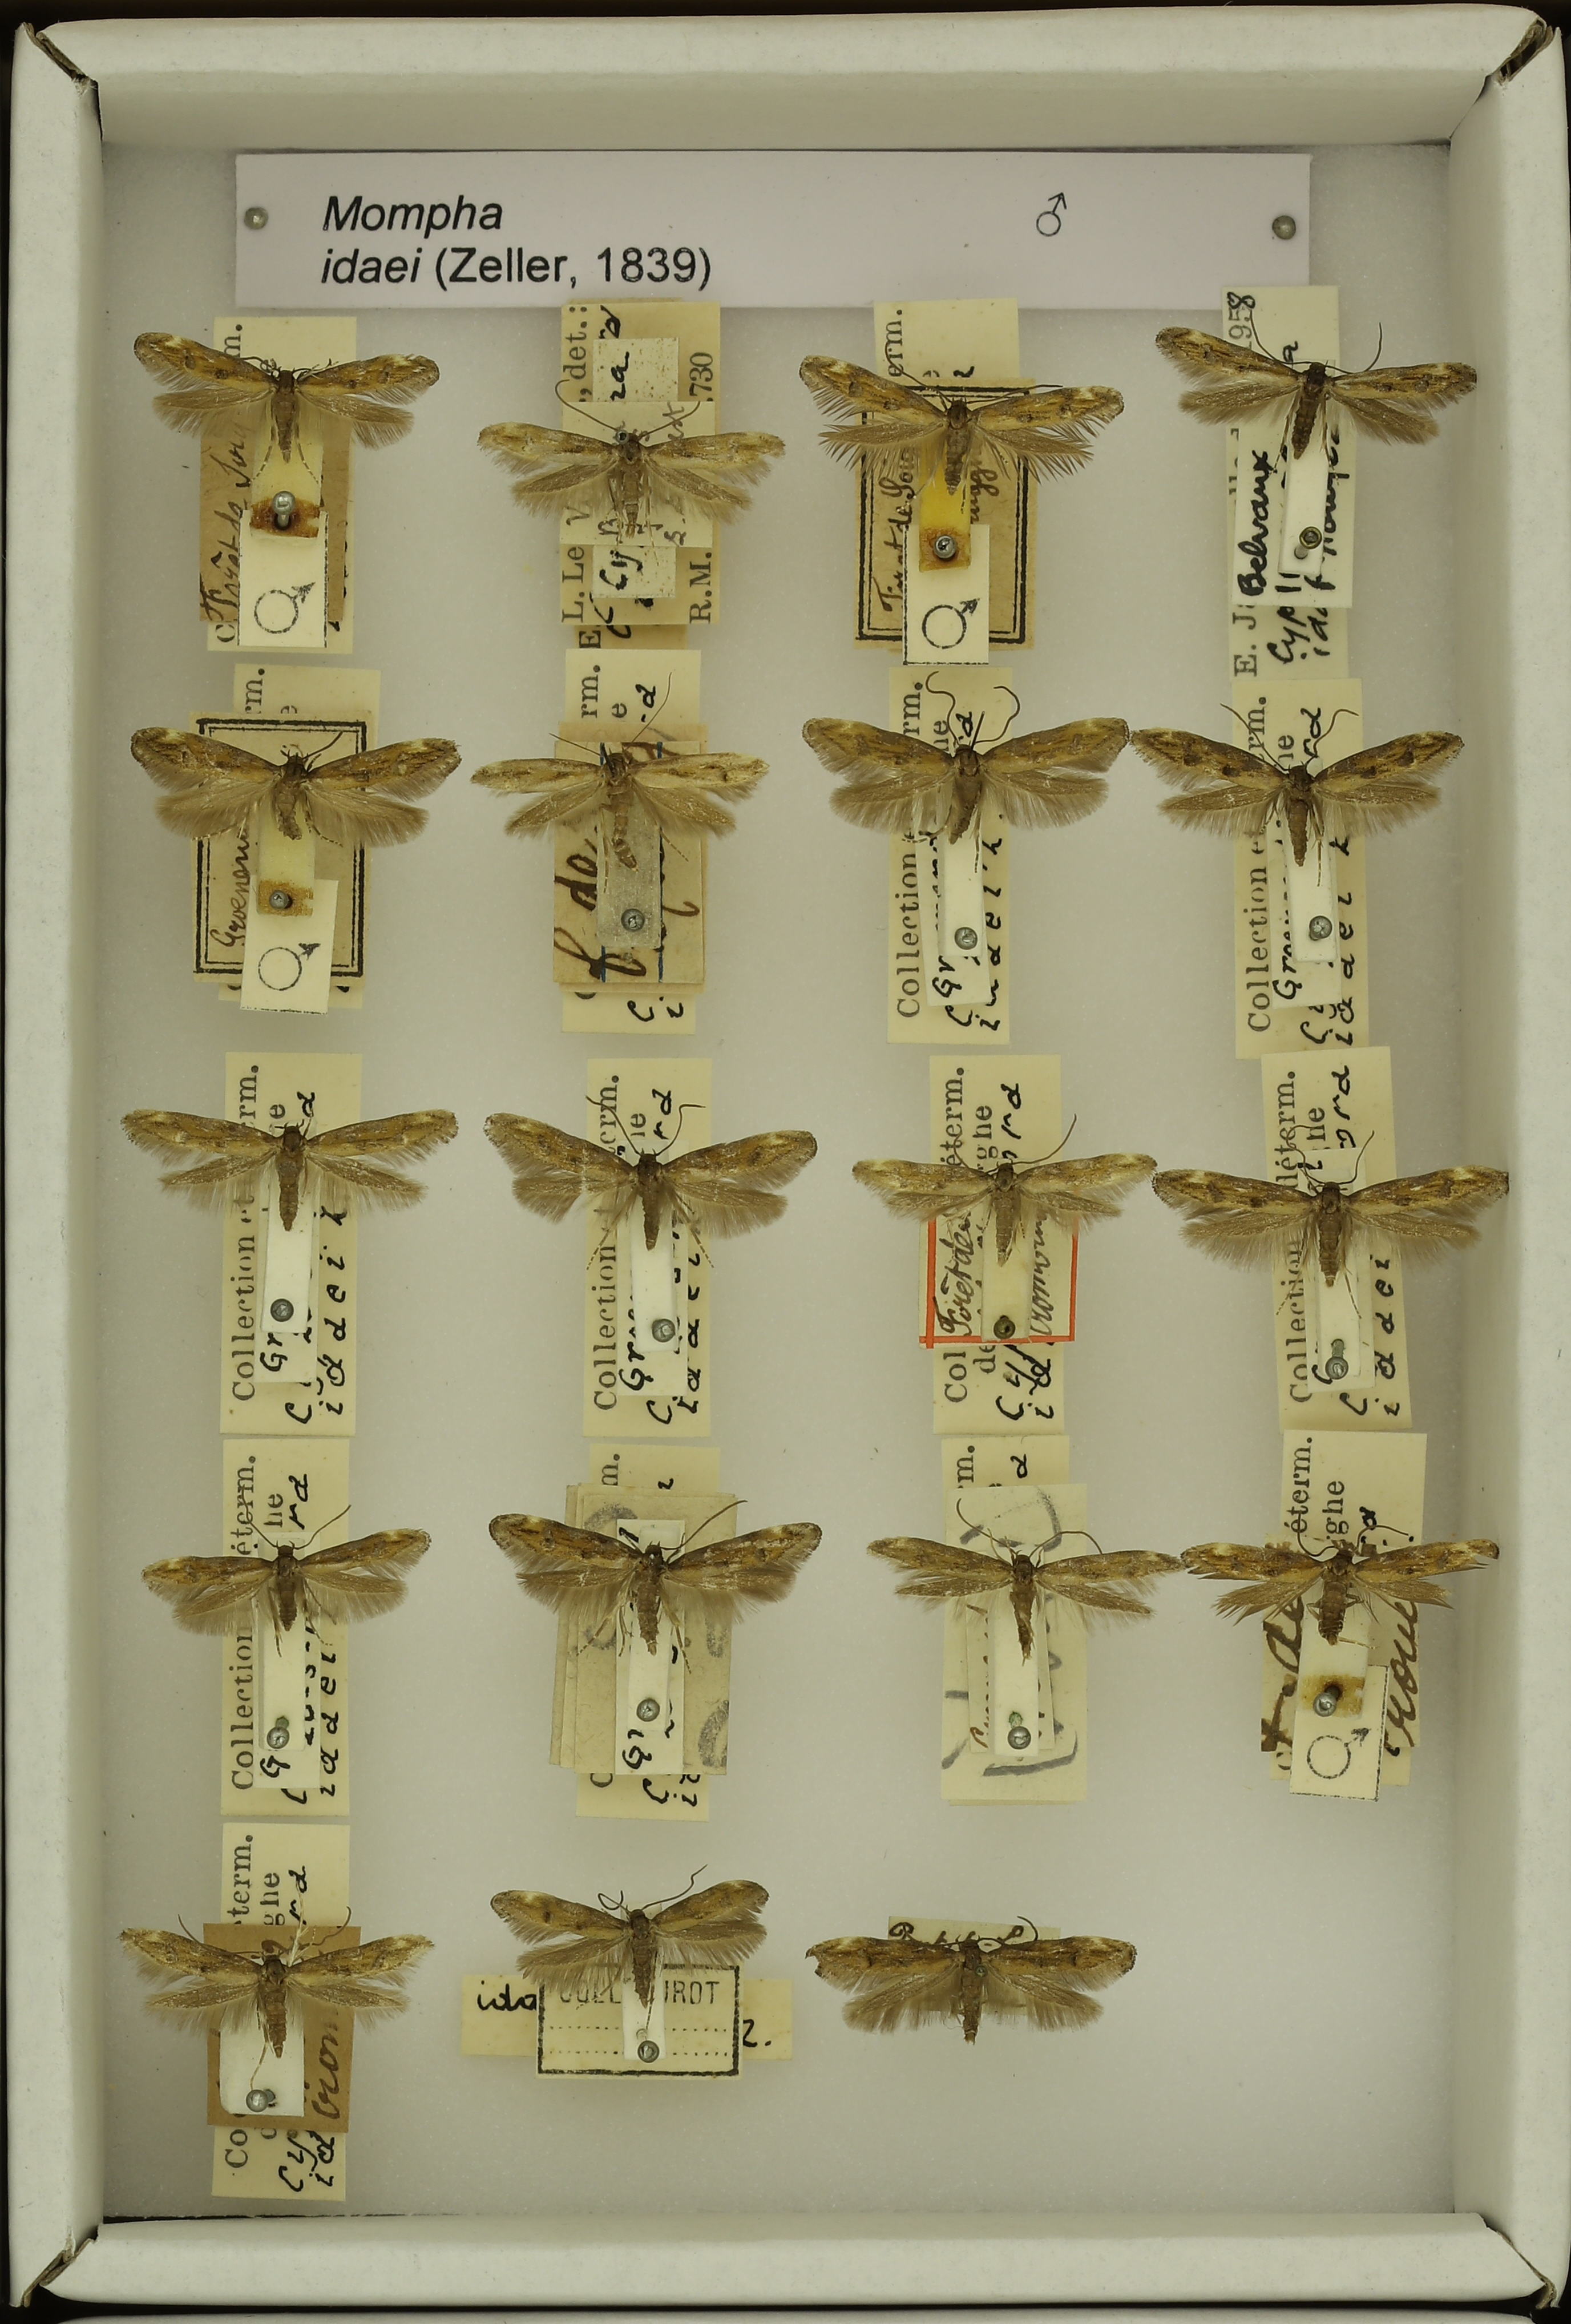insect: (477, 1499, 828, 1665), (785, 335, 1133, 500), (1161, 312, 1490, 482), (486, 1095, 833, 1251), (800, 696, 1134, 857), (126, 1080, 472, 1229), (805, 1898, 1138, 2051), (117, 710, 470, 854), (870, 1497, 1180, 1660), (119, 1903, 430, 2065), (121, 321, 451, 470), (133, 1490, 447, 1646), (1133, 710, 1473, 852), (1176, 1514, 1510, 1649), (484, 1865, 771, 2019), (1157, 1157, 1525, 1271), (475, 400, 787, 533), (470, 727, 770, 861), (847, 1139, 1157, 1236)
